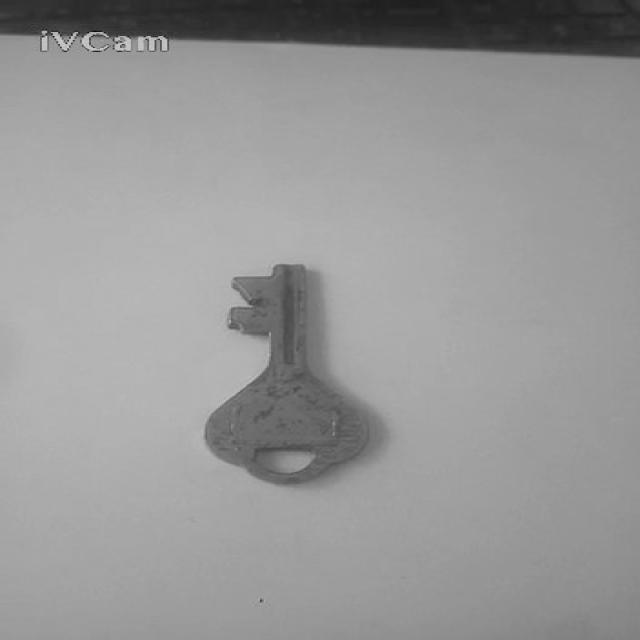key: (205, 265, 367, 484)
